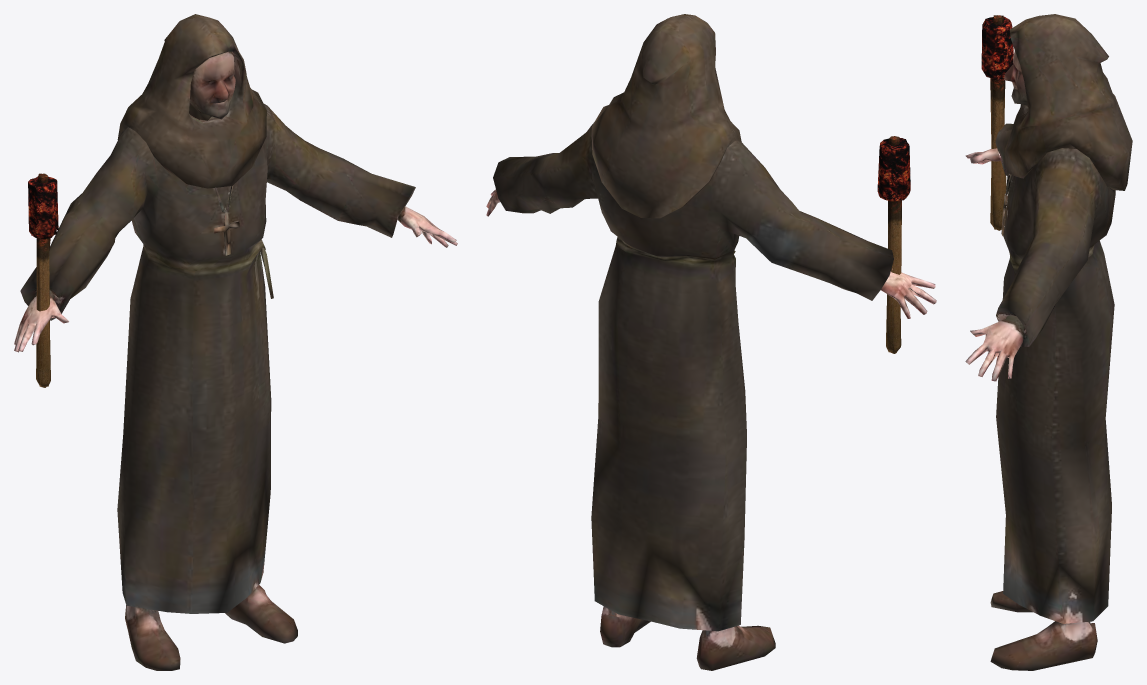
Rendered from fanatic.glb.
The picture shows the model from 3 angles, left to right: view 1: azimuth 30°, elevation 25°; view 2: azimuth 150°, elevation 25°; view 3: azimuth 270°, elevation 25°; orthographic projection.
Parts seen in each view (by area): view 1: fanatic; view 2: fanatic; view 3: fanatic.
Boxes of the visible parts, box(x1,y1,x2,y2) form: fanatic: box(14, 14, 457, 670); fanatic: box(486, 14, 936, 670); fanatic: box(965, 14, 1132, 670).
Size of the model in its own units: 1.34 by 1.8 by 0.4417.
2 materials, 2 textured.
